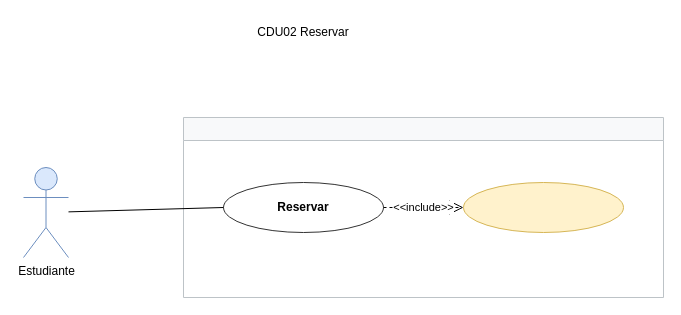
This 681x315 diagram has some shape labels left out. The shapes that lost their labels are listed below. From the top down, each one's box as (x1, y1, x2, y2) in pixels, then its label:
(182, 116, 664, 298): CampusFest (Uso)
(462, 182, 624, 232): Consultar eventos
